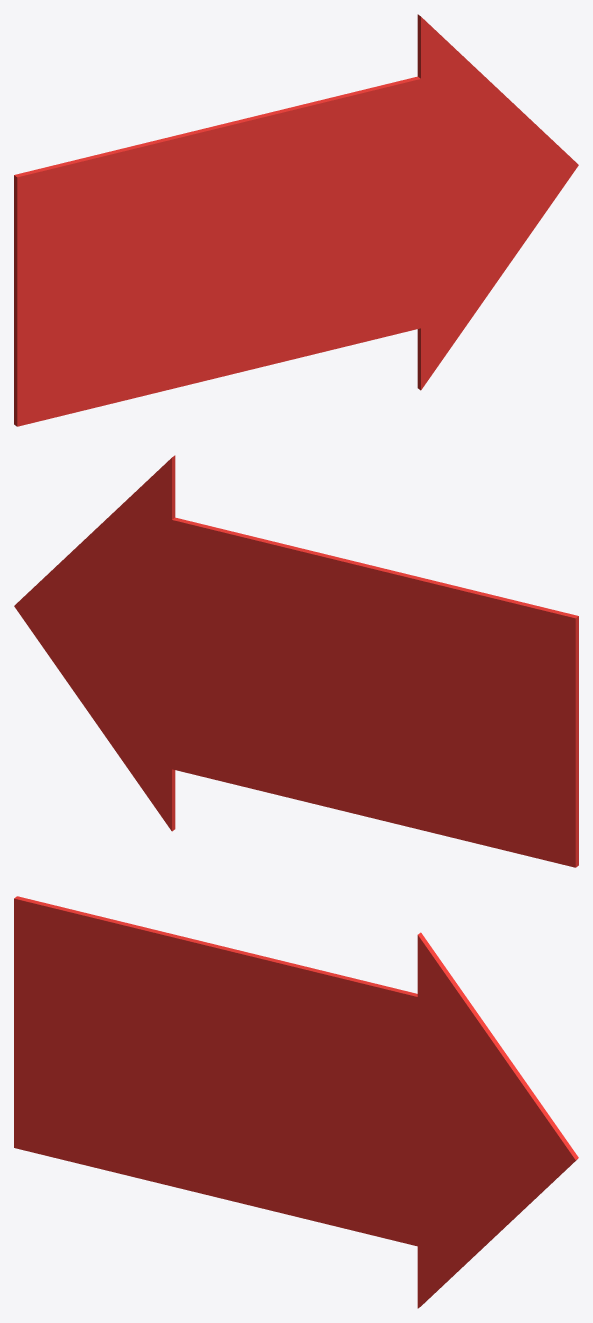
The model's file is arrow_1.fbx.
3 renders of one model, top to bottom at view 1: azimuth 30°, elevation 25°; view 2: azimuth 150°, elevation 25°; view 3: azimuth 330°, elevation 25°, orthographic.
Parts seen in each view (by area): view 1: Arrow; view 2: Arrow; view 3: Arrow.
Part boxes in pixels (box(x1,y1,x2,y2)): Arrow: box(14, 14, 578, 426); Arrow: box(14, 455, 578, 867); Arrow: box(14, 896, 578, 1308).
Size of the model in its own units: 100 by 63.64 by 1.
